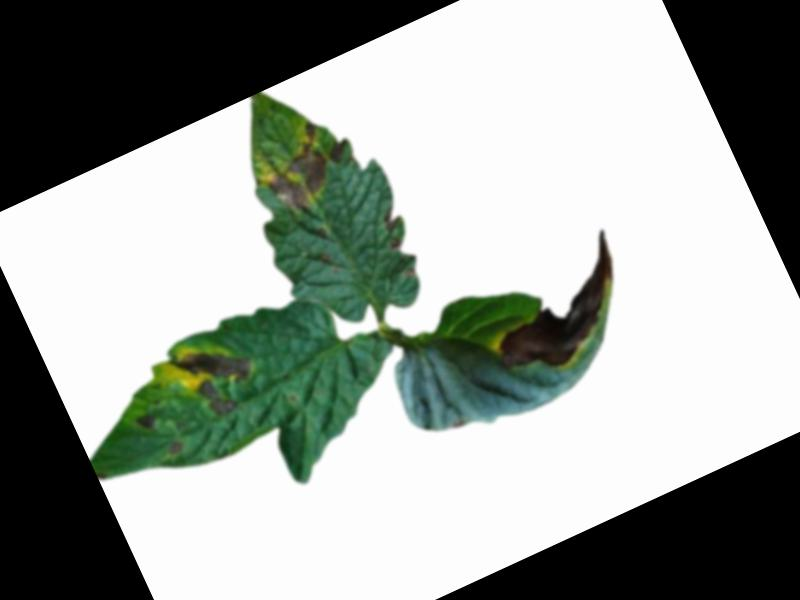Early_blight: (466, 227, 651, 391), (166, 328, 267, 427), (252, 120, 347, 220), (375, 205, 414, 252), (324, 135, 356, 167), (134, 408, 163, 435), (168, 439, 189, 458)
